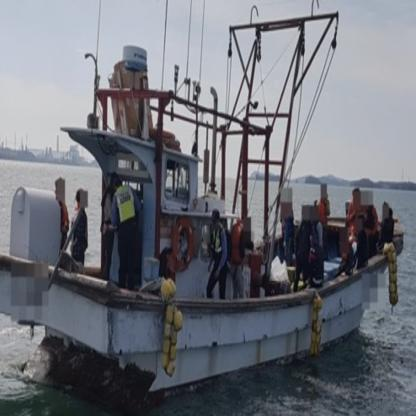fish-b: (0, 0, 414, 410)
